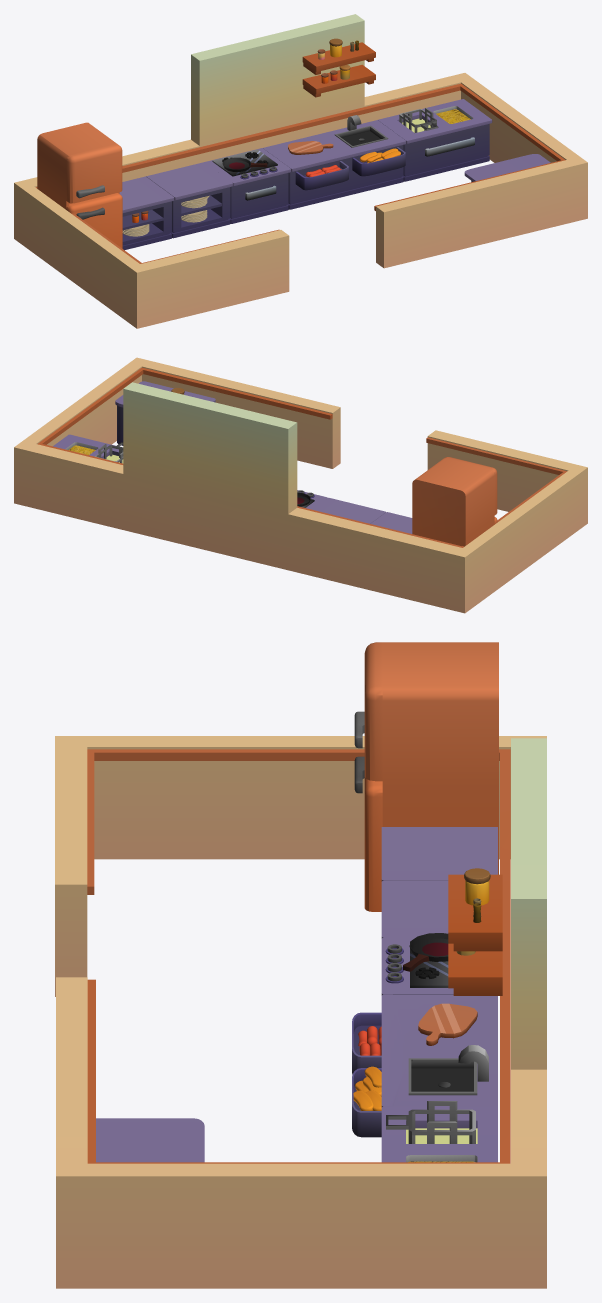
File: Kitchen.fbx
The picture shows the model from 3 angles, top to bottom: view 1: azimuth 30°, elevation 25°; view 2: azimuth 150°, elevation 25°; view 3: azimuth 270°, elevation 25°; orthographic projection. The views are drawn at different scales.
Visible parts, largest first — view 1: Cupboard, Fried; view 2: Cupboard; view 3: Cupboard, Fried, Bread.
Part boxes in pixels (<box>): Cupboard: <box>14,14,587,328</box>; Fried: <box>399,107,437,132</box>; Cupboard: <box>14,357,587,613</box>; Cupboard: <box>55,642,546,1288</box>; Fried: <box>386,1101,475,1143</box>; Bread: <box>353,1066,381,1110</box>.
Bounding box in the file's own units: 9.56 × 2.87 × 4.51.
